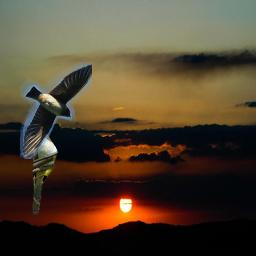Cuckoo: (30, 131, 58, 215)
Swallow: (20, 62, 92, 159)
